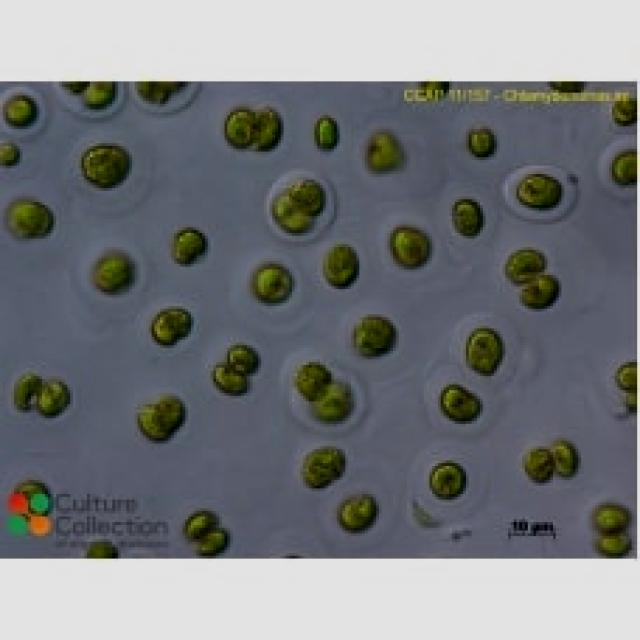Green Algae: (505, 166, 573, 216), (78, 140, 134, 188), (438, 373, 486, 427), (6, 196, 62, 242), (250, 255, 295, 309), (387, 222, 435, 272), (300, 444, 351, 488), (444, 194, 488, 244), (351, 312, 401, 356), (466, 323, 505, 379), (90, 250, 137, 295), (129, 396, 174, 443), (424, 458, 474, 500), (365, 126, 407, 174), (205, 356, 253, 398), (323, 242, 359, 289), (603, 146, 640, 191), (519, 438, 556, 483), (3, 93, 45, 132), (171, 227, 211, 267), (339, 494, 382, 531), (219, 106, 255, 148), (292, 356, 328, 398), (460, 126, 500, 163), (289, 174, 326, 213), (314, 385, 354, 421), (547, 432, 581, 474), (502, 247, 548, 278), (516, 278, 562, 309), (256, 104, 284, 154), (592, 530, 640, 558), (587, 500, 634, 528), (12, 370, 40, 416), (42, 382, 73, 418), (314, 112, 340, 154), (183, 511, 216, 539), (227, 345, 261, 371), (84, 84, 115, 112), (163, 393, 185, 429), (152, 314, 182, 340), (166, 306, 197, 331), (286, 210, 314, 236), (202, 528, 230, 553), (272, 191, 292, 213)
